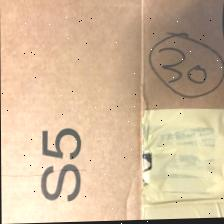cardboard: (2, 0, 224, 224)
